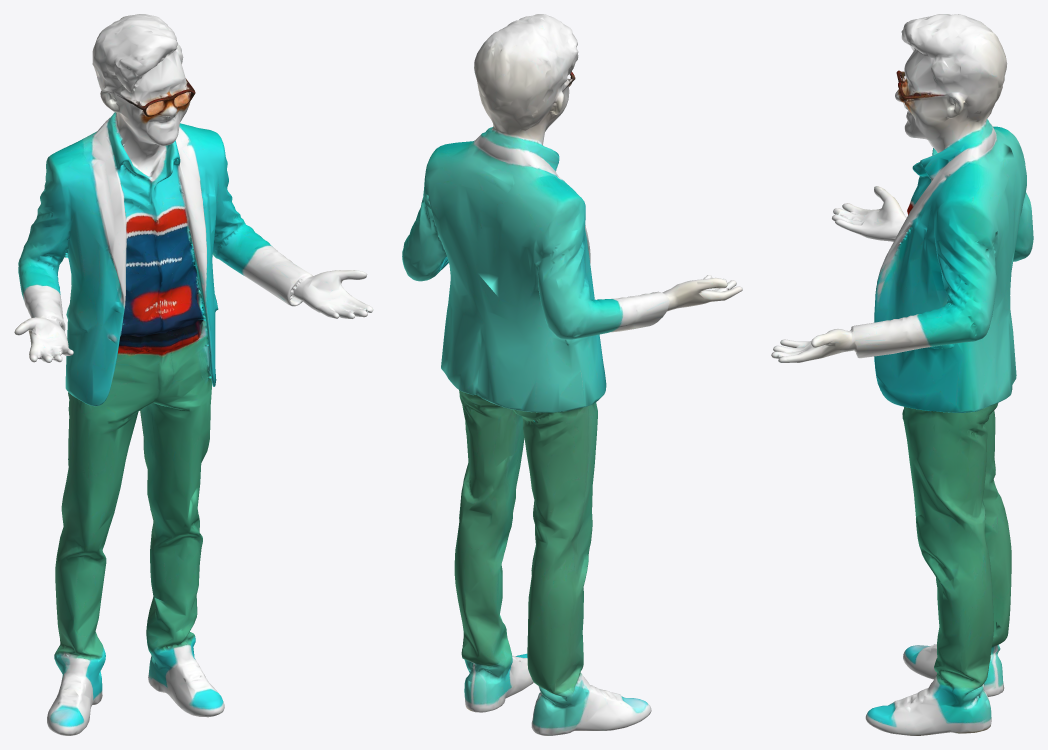
Rendered from npc_bookshop_owner.glb.
The picture shows the model from 3 angles, left to right: view 1: azimuth 30°, elevation 25°; view 2: azimuth 150°, elevation 25°; view 3: azimuth 270°, elevation 25°; orthographic projection.
Visible parts, largest first — view 1: Mesh_0; view 2: Mesh_0; view 3: Mesh_0.
Part boxes in pixels (x1,y1,x2,y2): Mesh_0: (14,14,373,735); Mesh_0: (402,14,742,735); Mesh_0: (771,14,1033,735).
Size of the model in its own units: 0.8393 by 1.7 by 0.5824.
Materials: 1 (1 with a texture image).
